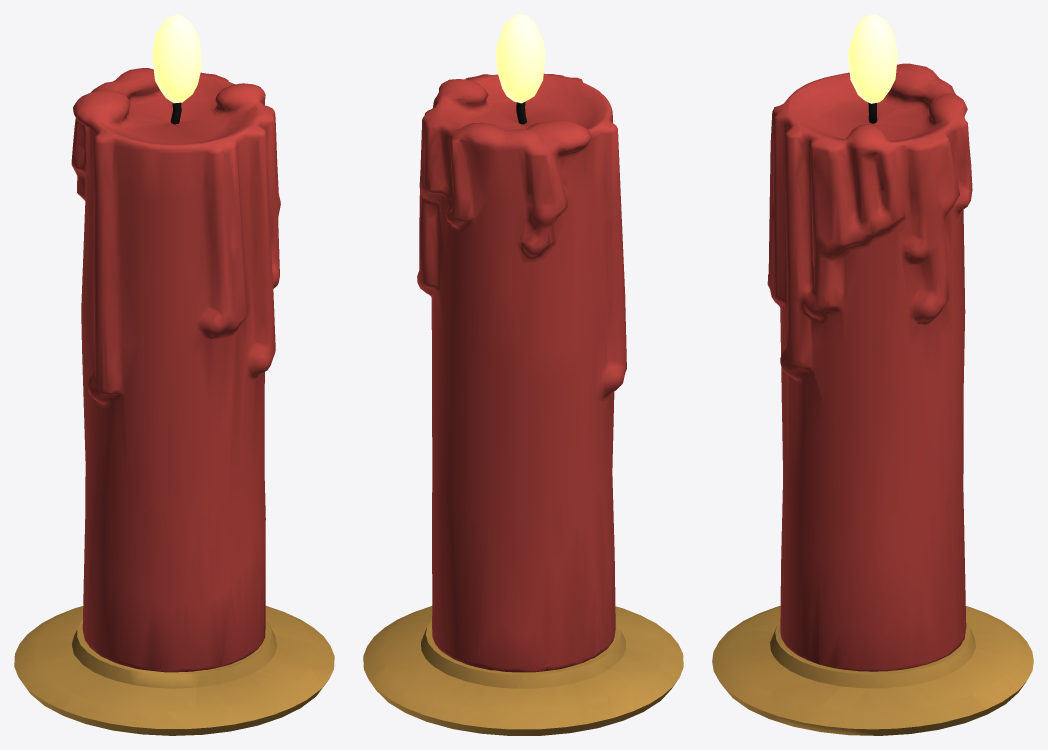
The model's file is frost_candle_great_lod1.glb.
3 views of the same model, side by side, from view 1: azimuth 30°, elevation 25°; view 2: azimuth 150°, elevation 25°; view 3: azimuth 270°, elevation 25° (orthographic).
Visible parts, largest first — view 1: frost_candle_great.001, flame.001; view 2: frost_candle_great.001, flame.001; view 3: frost_candle_great.001, flame.001.
Part boxes in pixels (box(x1,y1,x2,y2)): frost_candle_great.001: box(14, 68, 334, 735); flame.001: box(152, 14, 201, 103); frost_candle_great.001: box(363, 73, 683, 735); flame.001: box(495, 14, 545, 103); frost_candle_great.001: box(712, 63, 1033, 735); flame.001: box(847, 14, 897, 103).
Bounding box in the file's own units: 25 × 56.27 × 25.
